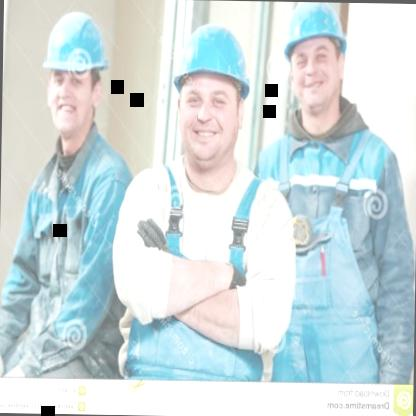helmet: (160, 10, 259, 183), (36, 0, 116, 147), (274, 2, 358, 132)
